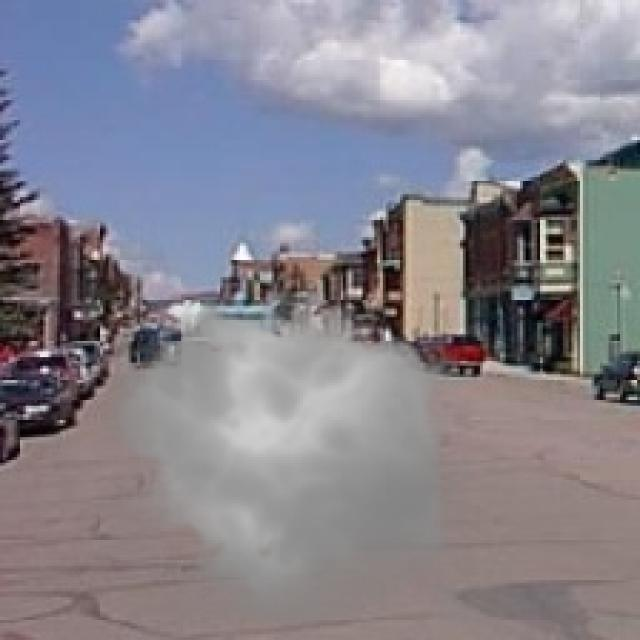smoke: (100, 277, 469, 637)
